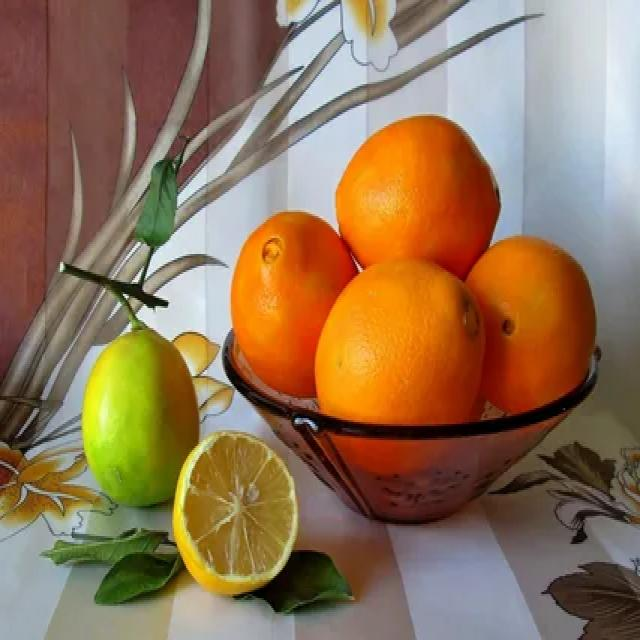orange: (311, 254, 494, 469)
